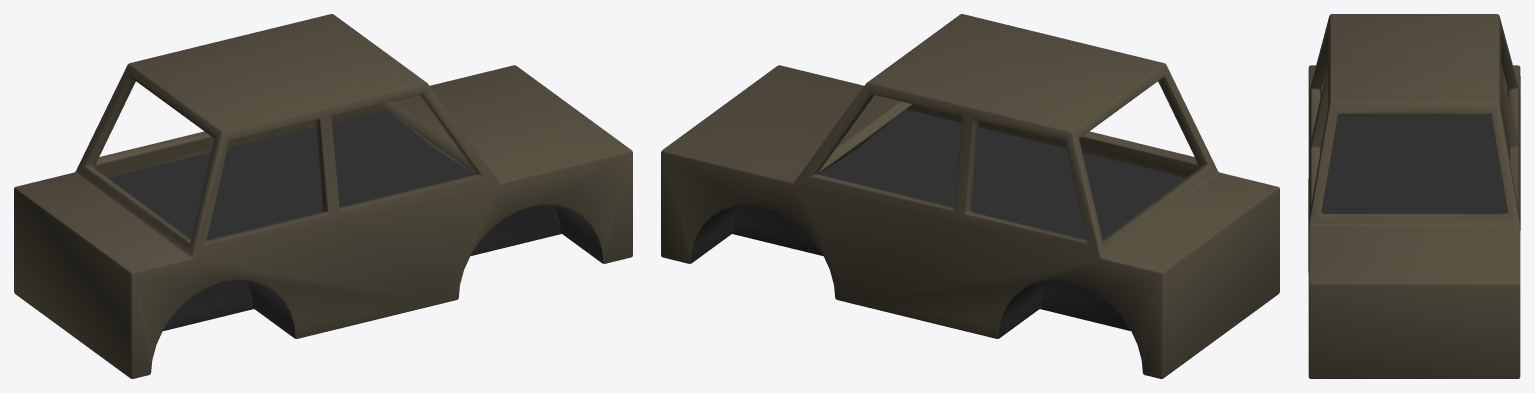
The model's file is BustedCar.glb.
The picture shows the model from 3 angles, left to right: view 1: azimuth 30°, elevation 25°; view 2: azimuth 150°, elevation 25°; view 3: azimuth 270°, elevation 25°; orthographic projection. The views are drawn at different scales.
Visible parts, largest first — view 1: Cube, Cube.003; view 2: Cube, Cube.003; view 3: Cube, Cube.003.
Boxes of the visible parts, bbox=[...] form: Cube: bbox=[14, 14, 632, 378]; Cube.003: bbox=[107, 109, 475, 239]; Cube: bbox=[661, 14, 1279, 378]; Cube.003: bbox=[818, 109, 1186, 239]; Cube: bbox=[1308, 14, 1520, 378]; Cube.003: bbox=[1320, 97, 1508, 213].
Size of the model in its own units: 4.9 by 2 by 2.
